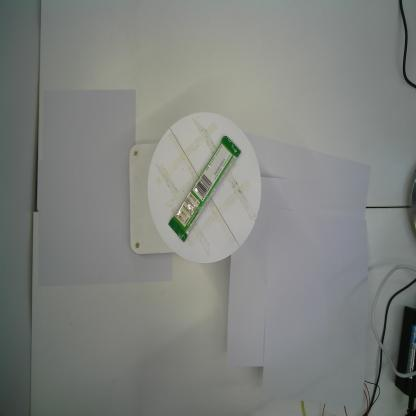Chocolate: (168, 135, 242, 243)
